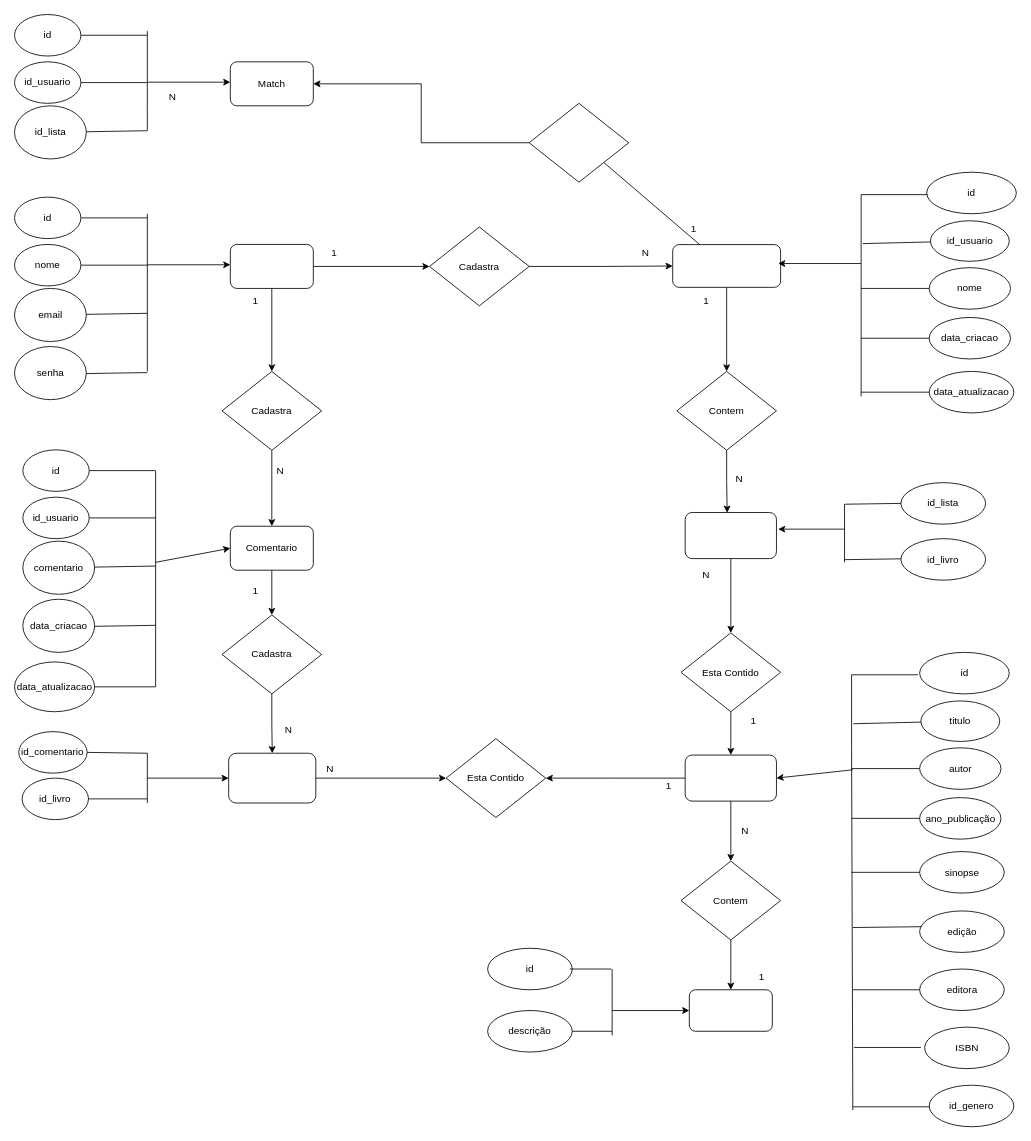
This 1031x1141 diagram has some shape labels left out. The shapes that lost their labels are listed below. From the top down, each one's box as (x1, y1, x2, y2) in pixels, then its label:
(528, 103, 629, 182): Gera
(229, 244, 313, 288): Usuário
(672, 244, 781, 287): Lista
(684, 512, 776, 559): Livro_Lista
(228, 752, 316, 803): Livro_Comentario
(684, 754, 776, 801): Livro
(688, 989, 772, 1031): Gênero
